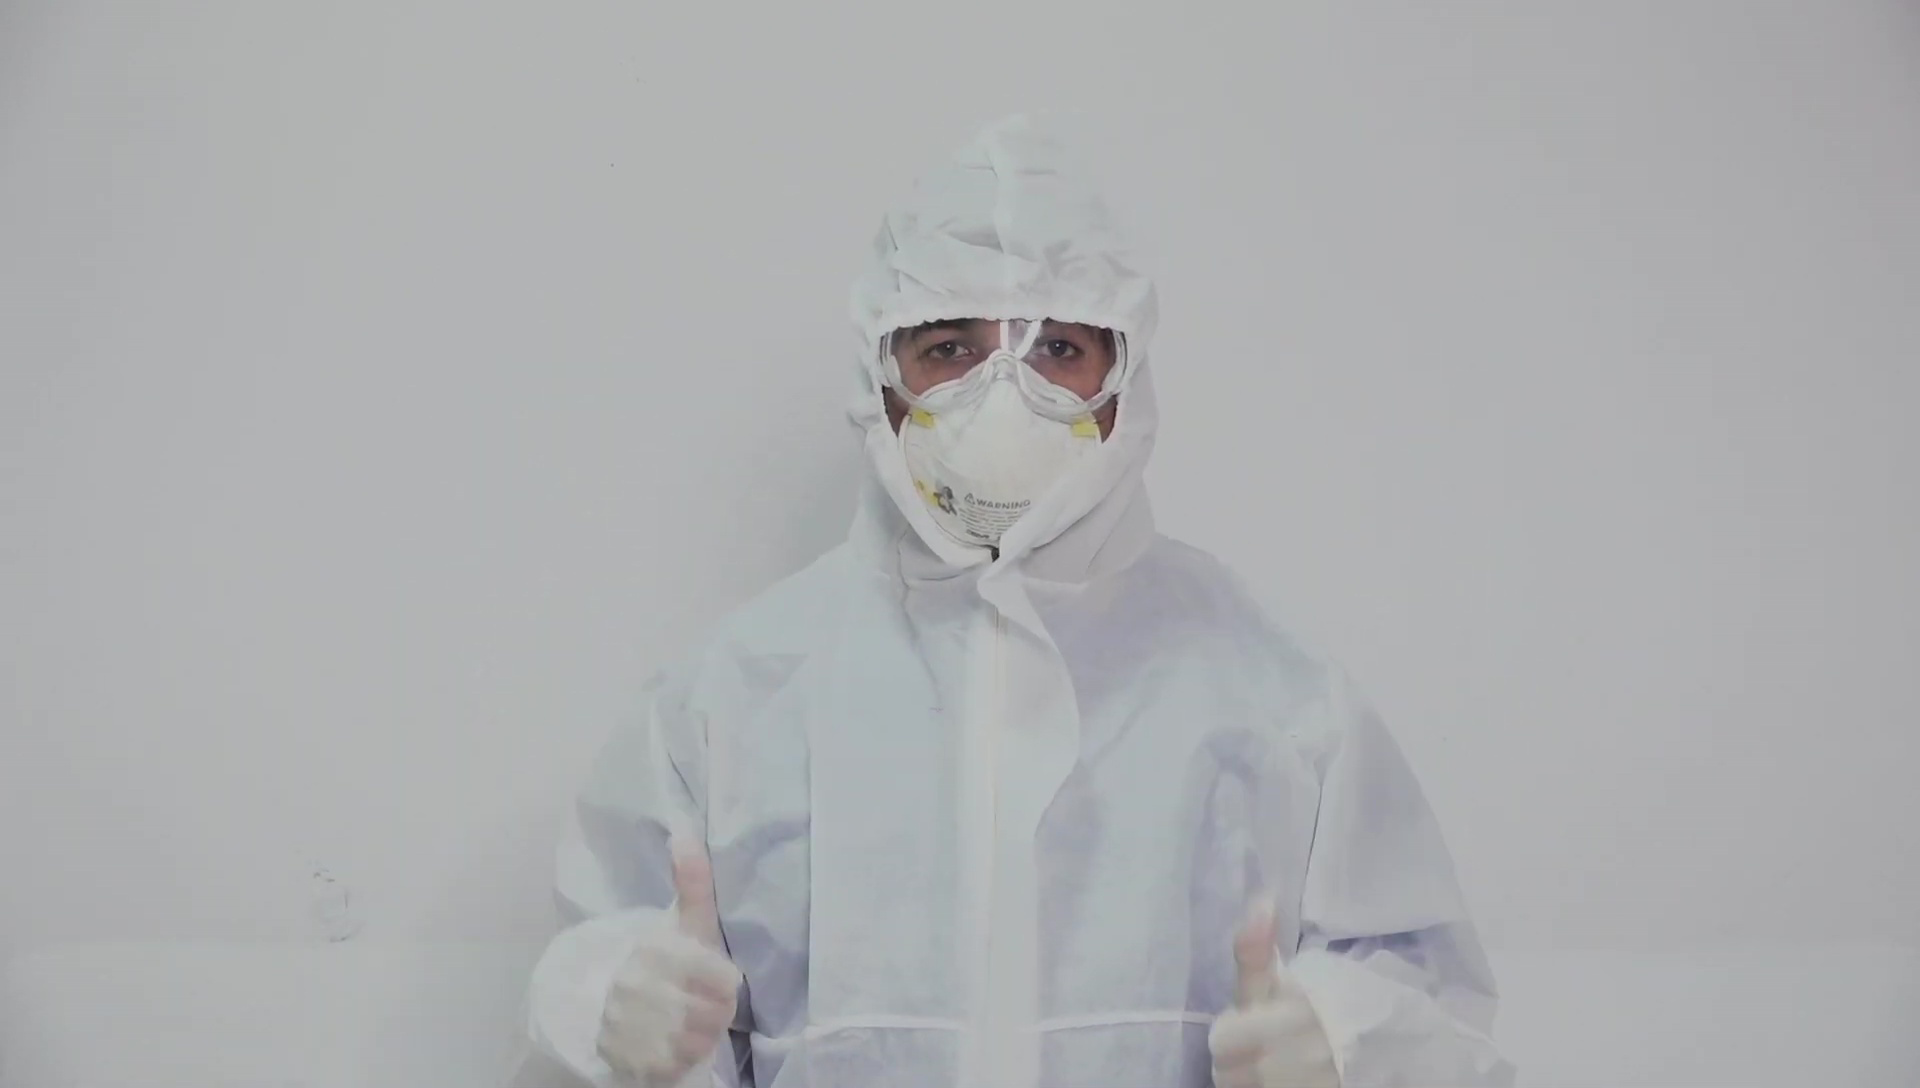Coverall: (515, 118, 1517, 1086)
Gloves: (592, 831, 744, 1083), (1205, 896, 1335, 1086)
Goggles: (880, 319, 1125, 421)
with_mask: (898, 363, 1103, 548)
